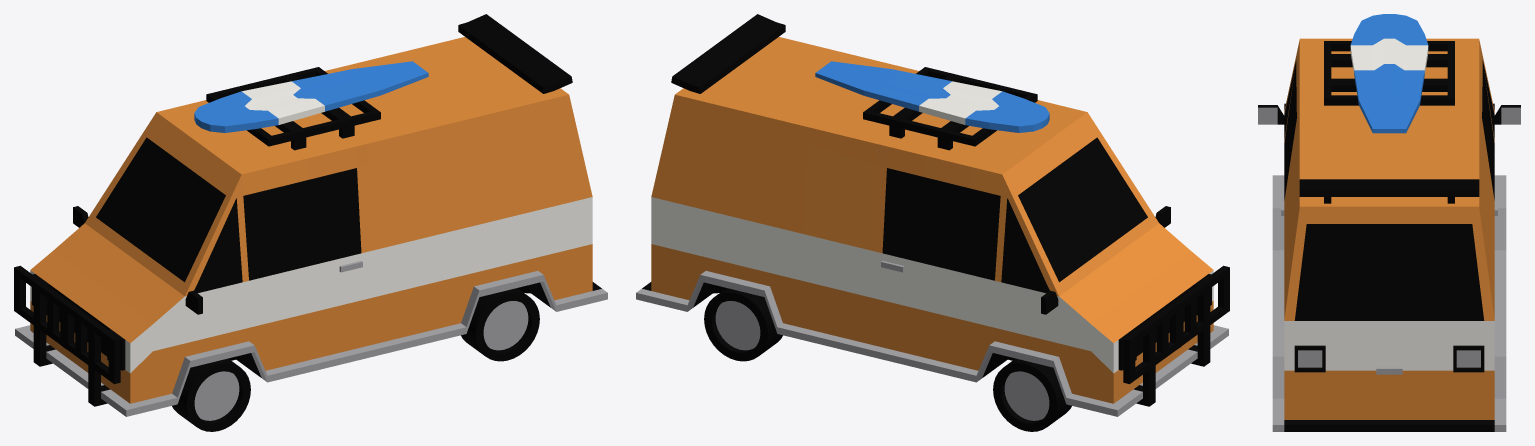
File: van.gltf
3 renders of one model, left to right at view 1: azimuth 30°, elevation 25°; view 2: azimuth 150°, elevation 25°; view 3: azimuth 270°, elevation 25°, orthographic. The views are drawn at different scales.
Visible parts, largest first — view 1: van; view 2: van; view 3: van.
Boxes of the visible parts, <box> form: van: <box>14,14,607,431</box>; van: <box>636,14,1229,431</box>; van: <box>1258,14,1520,431</box>.
Bounding box in the file's own units: 15.2 × 7.9 × 6.74.
